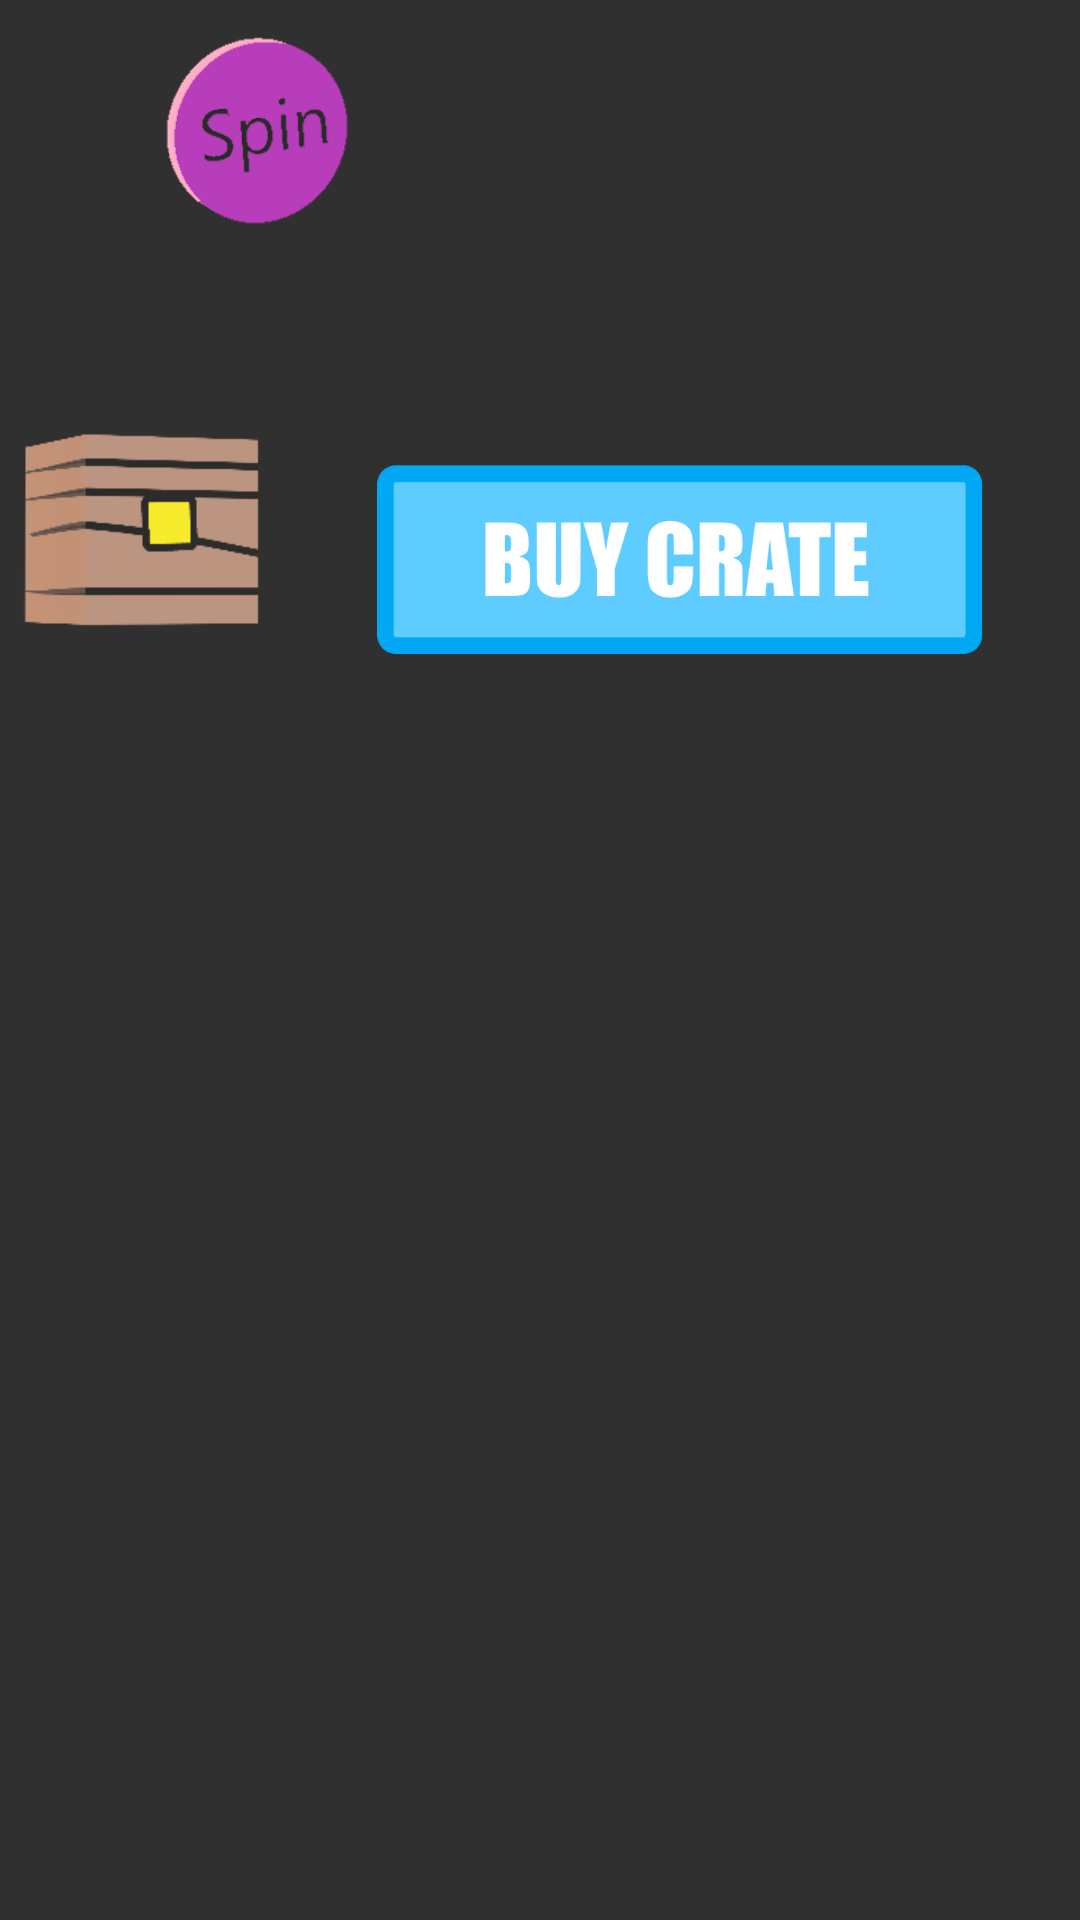

Locate icon controls on the screen. Image size 1080w x 1920h, boxes as (x1, y1, x2, y2).
coin: (166, 37, 348, 224)
crate: (24, 434, 258, 626)
